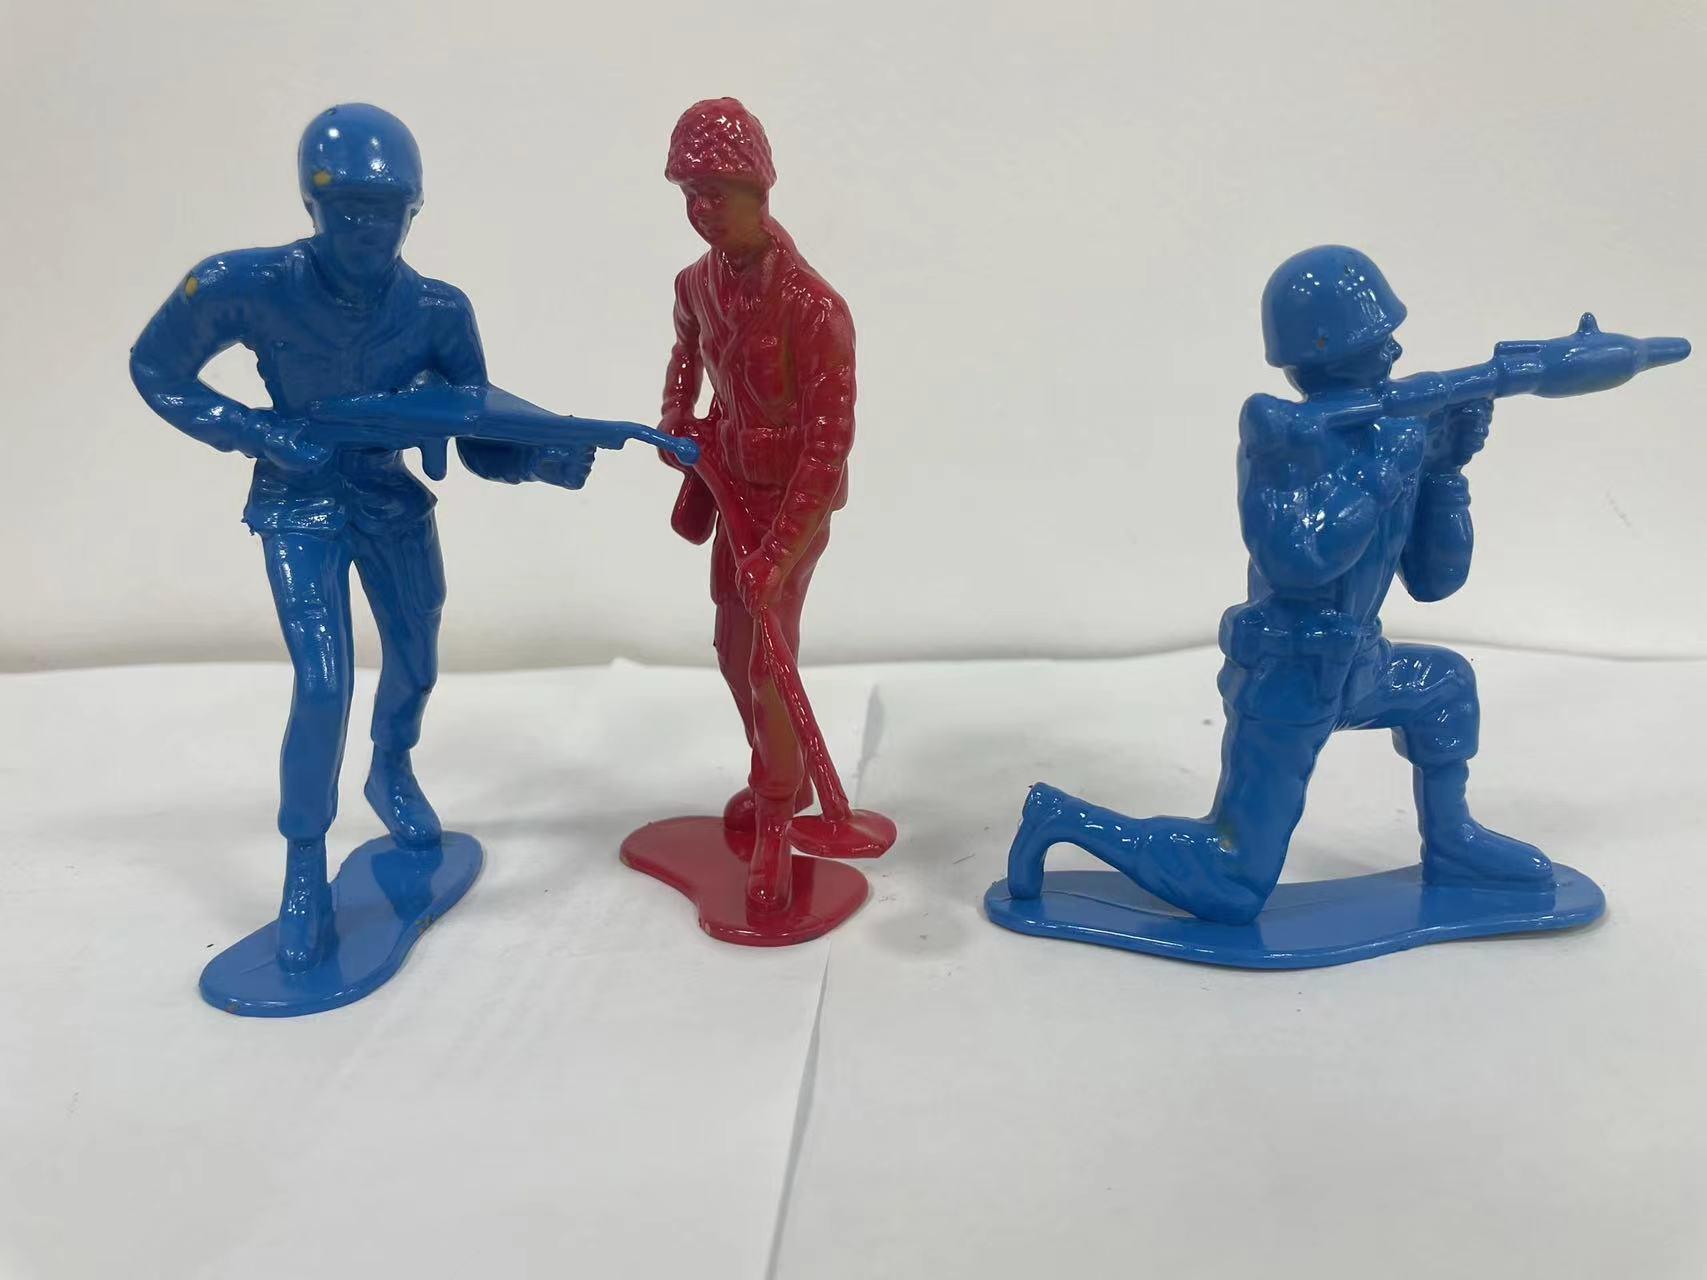blue: (1035, 151, 1680, 1043), (118, 85, 603, 1038)
red: (614, 101, 929, 1006)
